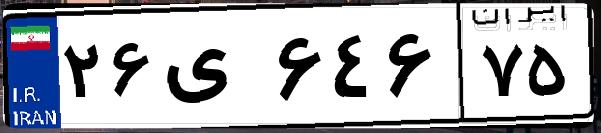2: (57, 26, 110, 100)
4: (330, 28, 385, 110)
5: (525, 38, 570, 115)
6: (270, 28, 330, 110), (385, 28, 445, 110), (110, 28, 158, 98)
7: (475, 38, 525, 113)
ی: (158, 20, 270, 120)
